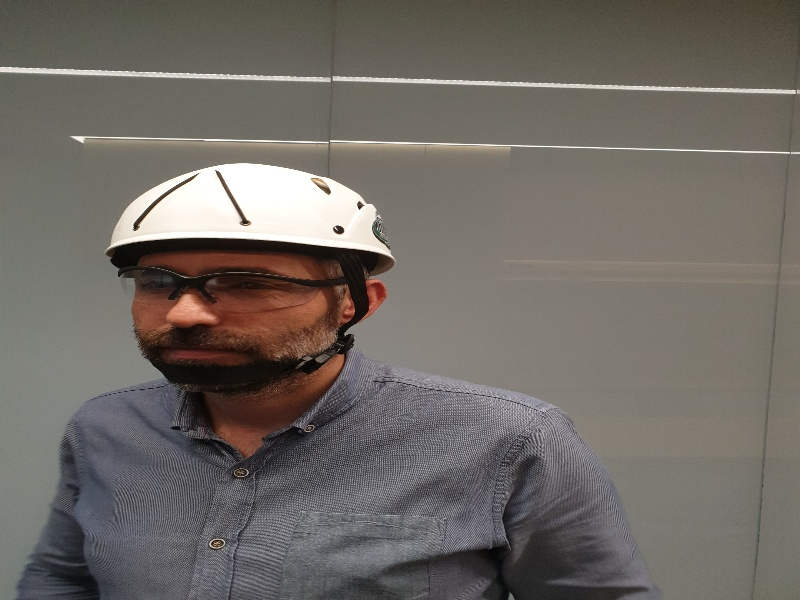Baret: (106, 162, 392, 263)
Gozluk: (116, 265, 350, 314)
